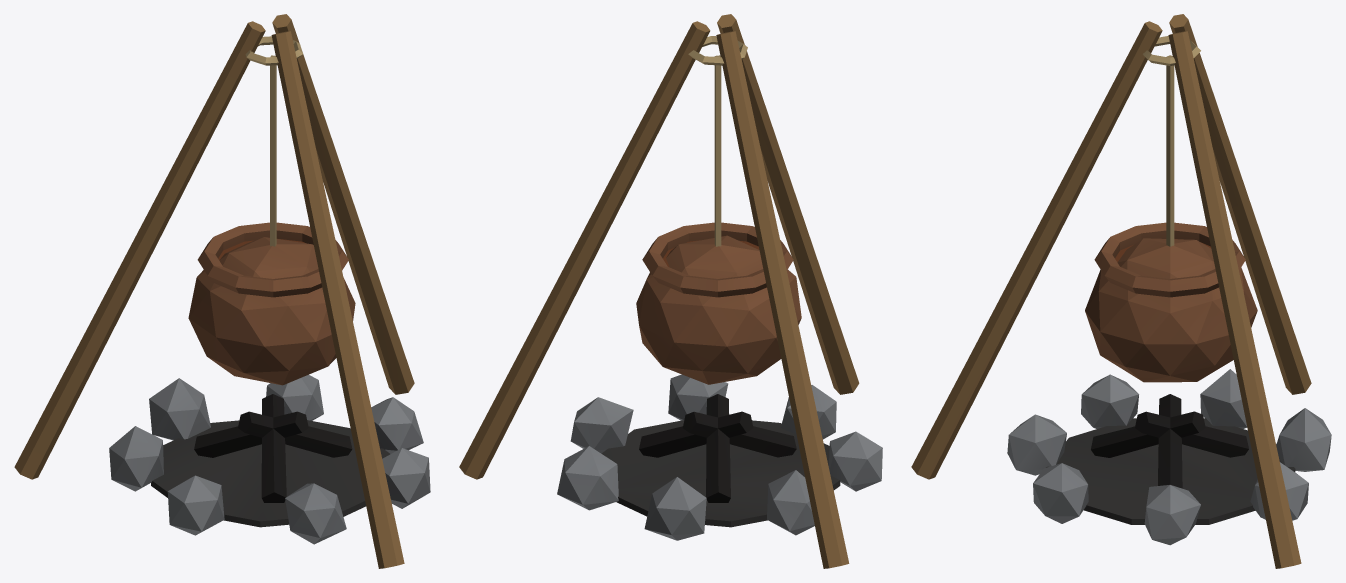
The model's file is CookingPot.fbx.
3 renders of one model, left to right at view 1: azimuth 30°, elevation 25°; view 2: azimuth 150°, elevation 25°; view 3: azimuth 270°, elevation 25°, orthographic.
Parts seen in each view (by area): view 1: CookingPot; view 2: CookingPot; view 3: CookingPot.
Part boxes in pixels (x1=…): CookingPot: x1=14, y1=14, x2=430, y2=568; CookingPot: x1=459, y1=14, x2=882, y2=568; CookingPot: x1=911, y1=14, x2=1331, y2=568.
Size of the model in its own units: 1.36 by 1.56 by 1.28.
